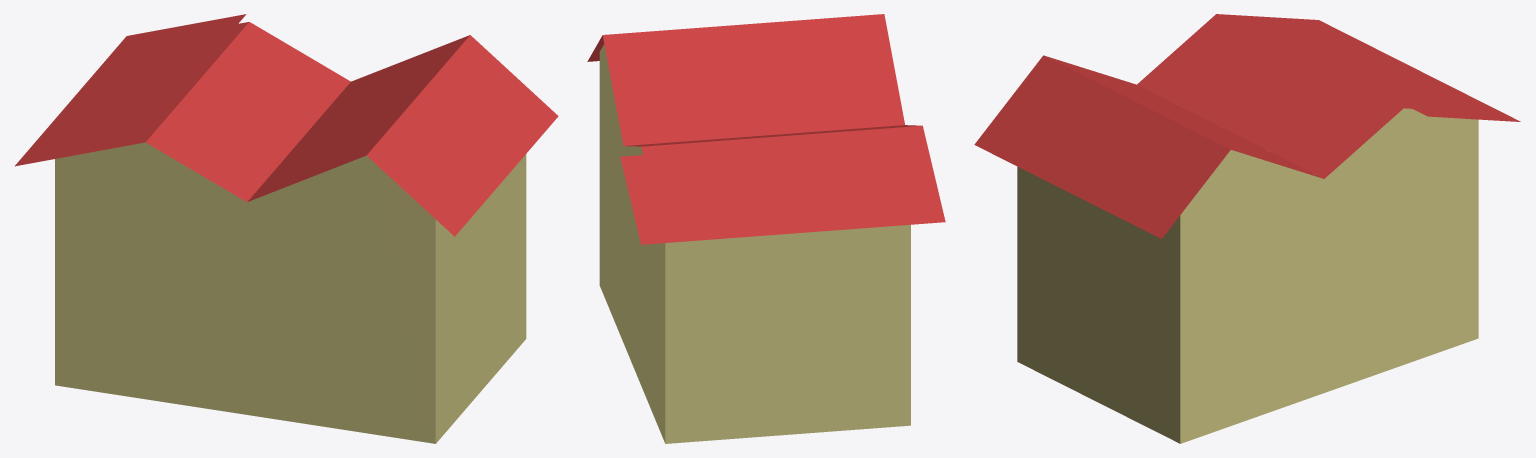
The picture shows the model from 3 angles, left to right: view 1: azimuth 30°, elevation 25°; view 2: azimuth 150°, elevation 25°; view 3: azimuth 270°, elevation 25°; orthographic projection. The views are drawn at different scales.
Visible parts, largest first — view 1: group_9, group_5, group_3, group_7, group_8, group_4; view 2: group_5, group_7, group_3, group_9, group_4; view 3: group_9, group_5, group_3, group_7, group_8.
Part boxes in pixels (x1,y1,x2,y2): group_9: [258, 154, 526, 443]; group_5: [55, 142, 257, 416]; group_3: [15, 14, 350, 201]; group_7: [247, 35, 558, 236]; group_8: [355, 36, 556, 234]; group_4: [23, 15, 335, 156]; group_5: [630, 146, 910, 443]; group_7: [587, 14, 904, 145]; group_3: [620, 125, 945, 244]; group_9: [599, 44, 630, 358]; group_4: [621, 156, 929, 244]; group_9: [1017, 150, 1319, 443]; group_5: [1313, 108, 1478, 394]; group_3: [1137, 14, 1520, 178]; group_7: [974, 55, 1322, 238]; group_8: [979, 64, 1297, 236].
Bounding box in the file's own units: 12.6 × 13.45 × 7.6.
